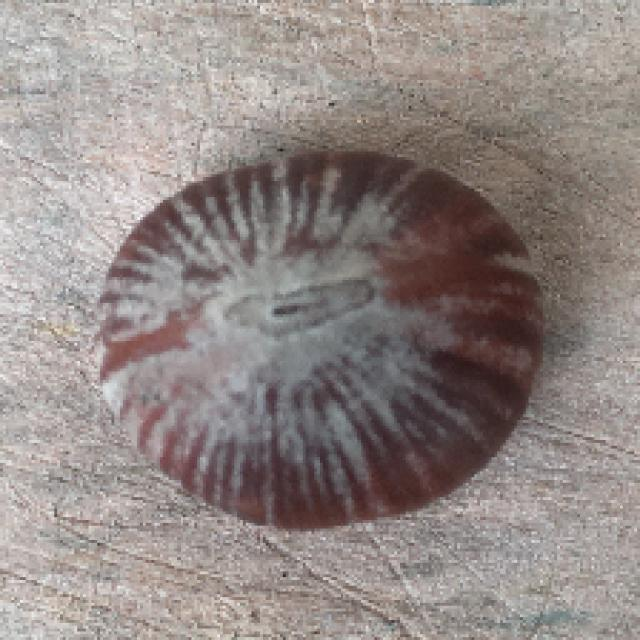DamagedHazelnut: (92, 148, 546, 536)
